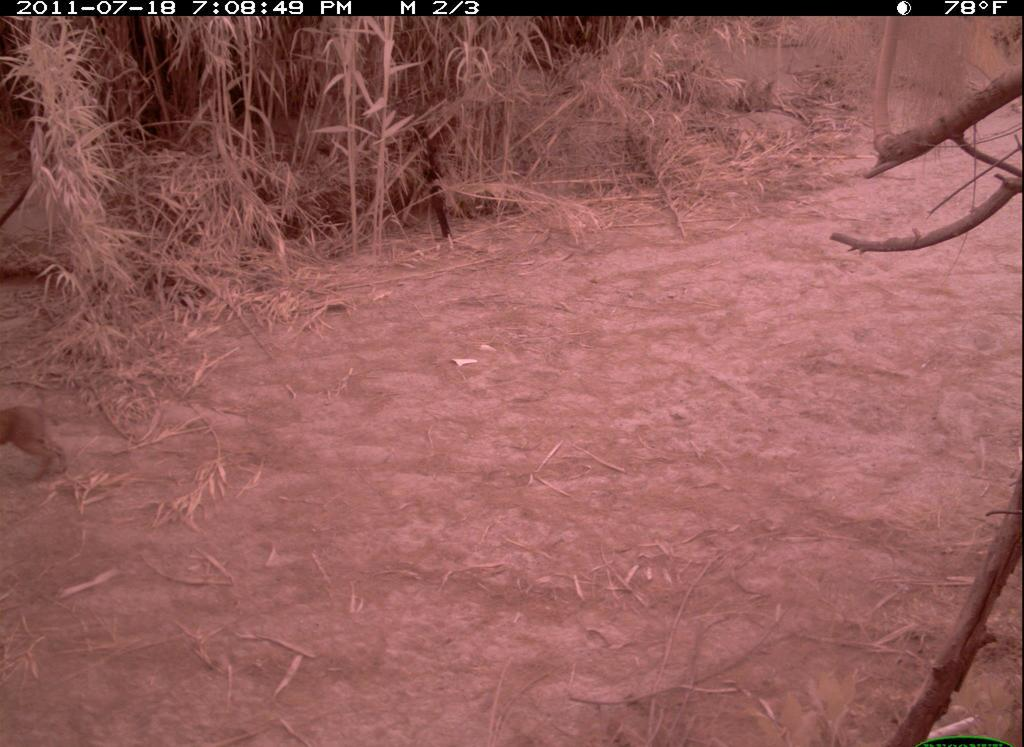bobcat: (3, 400, 91, 484)
